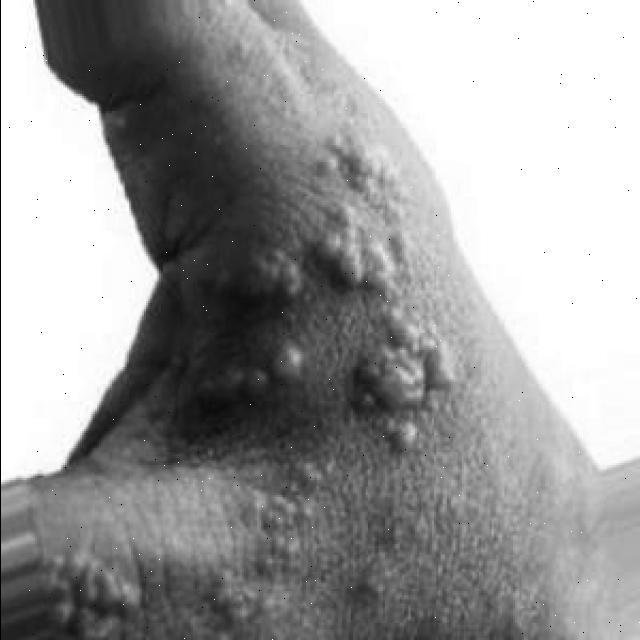Shingles: (313, 119, 458, 454), (203, 449, 333, 640), (45, 551, 149, 639), (197, 252, 309, 320), (194, 343, 312, 406)
